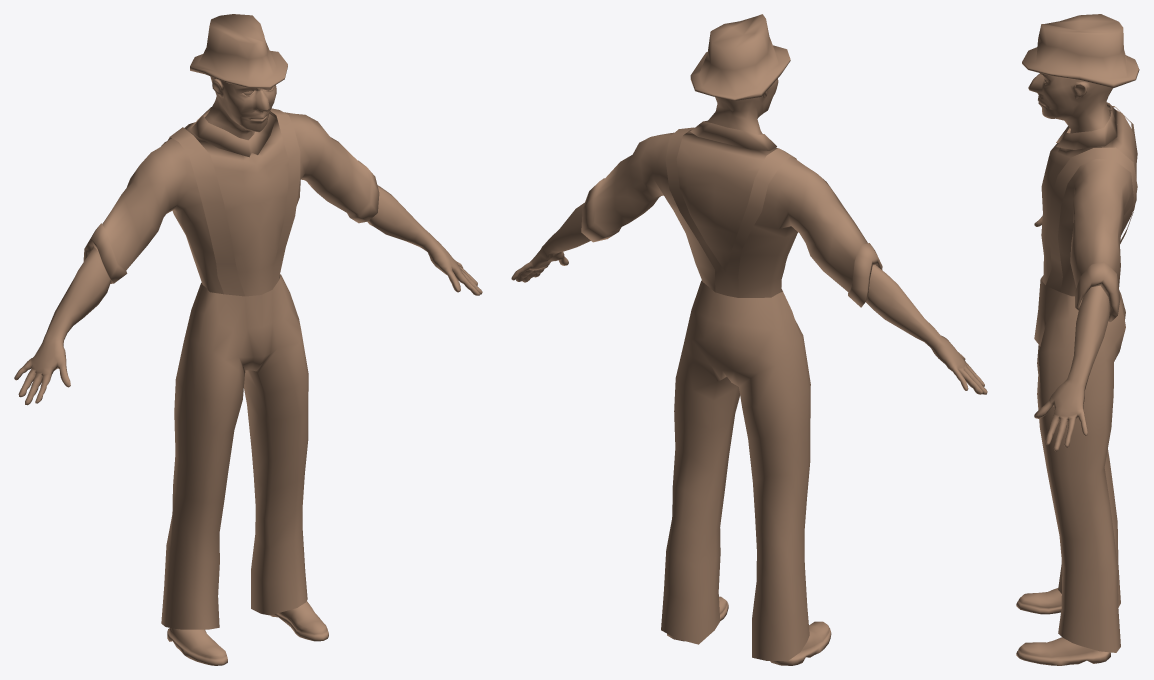
Rendered from Guard_03.FBX.
3 views of the same model, side by side, from view 1: azimuth 30°, elevation 25°; view 2: azimuth 150°, elevation 25°; view 3: azimuth 270°, elevation 25° (orthographic).
Parts seen in each view (by area): view 1: Hose, Hemd, Guard001, Hosenträger, Hut; view 2: Hose, Hemd, Guard001, Hut, Hosenträger; view 3: Hose, Hemd, Guard001, Hut, Hosenträger.
Boxes of the visible parts, x1=… form: Hose: x1=161, y1=274, x2=308, y2=629; Hemd: x1=83, y1=107, x2=379, y2=296; Guard001: x1=14, y1=76, x2=482, y2=665; Hosenträger: x1=168, y1=108, x2=300, y2=296; Hut: x1=190, y1=14, x2=287, y2=88; Hose: x1=661, y1=280, x2=810, y2=661; Hemd: x1=581, y1=120, x2=882, y2=307; Guard001: x1=511, y1=78, x2=987, y2=665; Hut: x1=690, y1=14, x2=790, y2=100; Hosenträger: x1=665, y1=127, x2=796, y2=297; Hose: x1=1034, y1=275, x2=1125, y2=652; Hemd: x1=1041, y1=102, x2=1136, y2=321; Guard001: x1=1016, y1=73, x2=1112, y2=665; Hut: x1=1022, y1=14, x2=1139, y2=87; Hosenträger: x1=1045, y1=106, x2=1137, y2=291.
Size of the model in its own units: 137 by 172 by 31.5.
